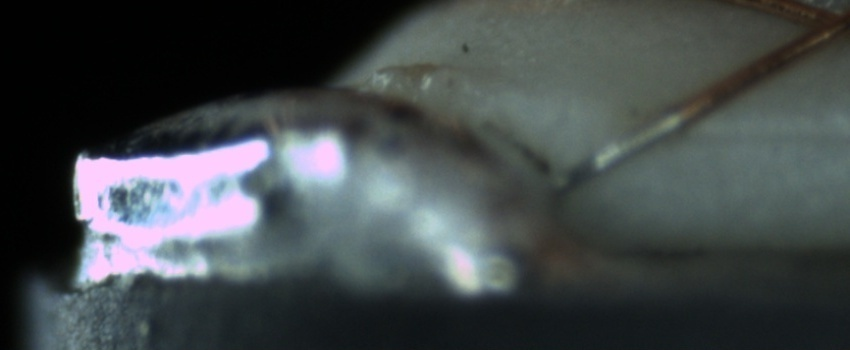CL: (778, 2, 848, 55)
DL: (676, 99, 849, 165)
TS: (552, 109, 682, 195)
